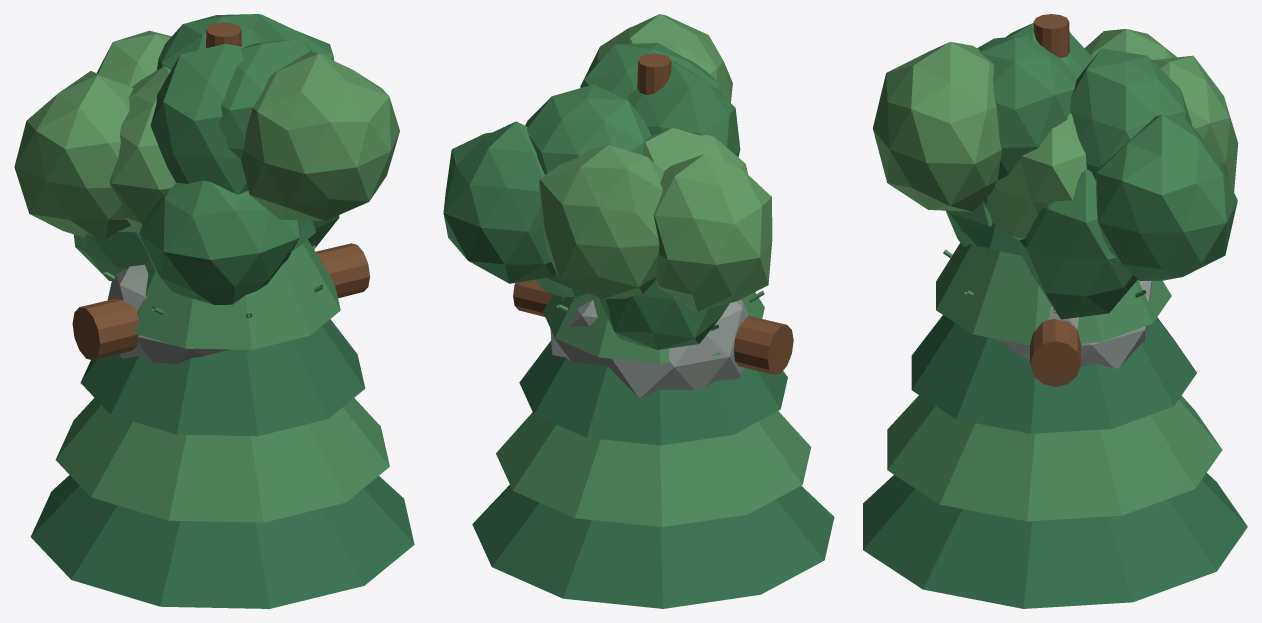
The model's file is forest_pack.glb.
3 views of the same model, side by side, from view 1: azimuth 30°, elevation 25°; view 2: azimuth 150°, elevation 25°; view 3: azimuth 270°, elevation 25° (orthographic). The views are drawn at different scales.
Visible parts, largest first — view 1: Tree_Pine, Tree_Broadleaf, Fallen_Log, Rock_Large; view 2: Tree_Pine, Tree_Broadleaf, Rock_Large, Fallen_Log; view 3: Tree_Pine, Tree_Broadleaf, Fallen_Log, Rock_Large.
Part boxes in pixels (x1,y1,x2,y2): Tree_Pine: (31,22,414,608); Tree_Broadleaf: (14,14,399,304); Fallen_Log: (72,243,369,360); Rock_Large: (107,264,229,364); Tree_Pine: (472,53,834,608); Tree_Broadleaf: (443,14,772,349); Rock_Large: (550,297,747,397); Fallen_Log: (513,279,793,374); Tree_Pine: (863,14,1247,608); Tree_Broadleaf: (873,23,1238,319); Fallen_Log: (1029,319,1081,386); Rock_Large: (998,281,1152,368).
Bounding box in the file's own units: 3.07 × 4.83 × 3.04.
